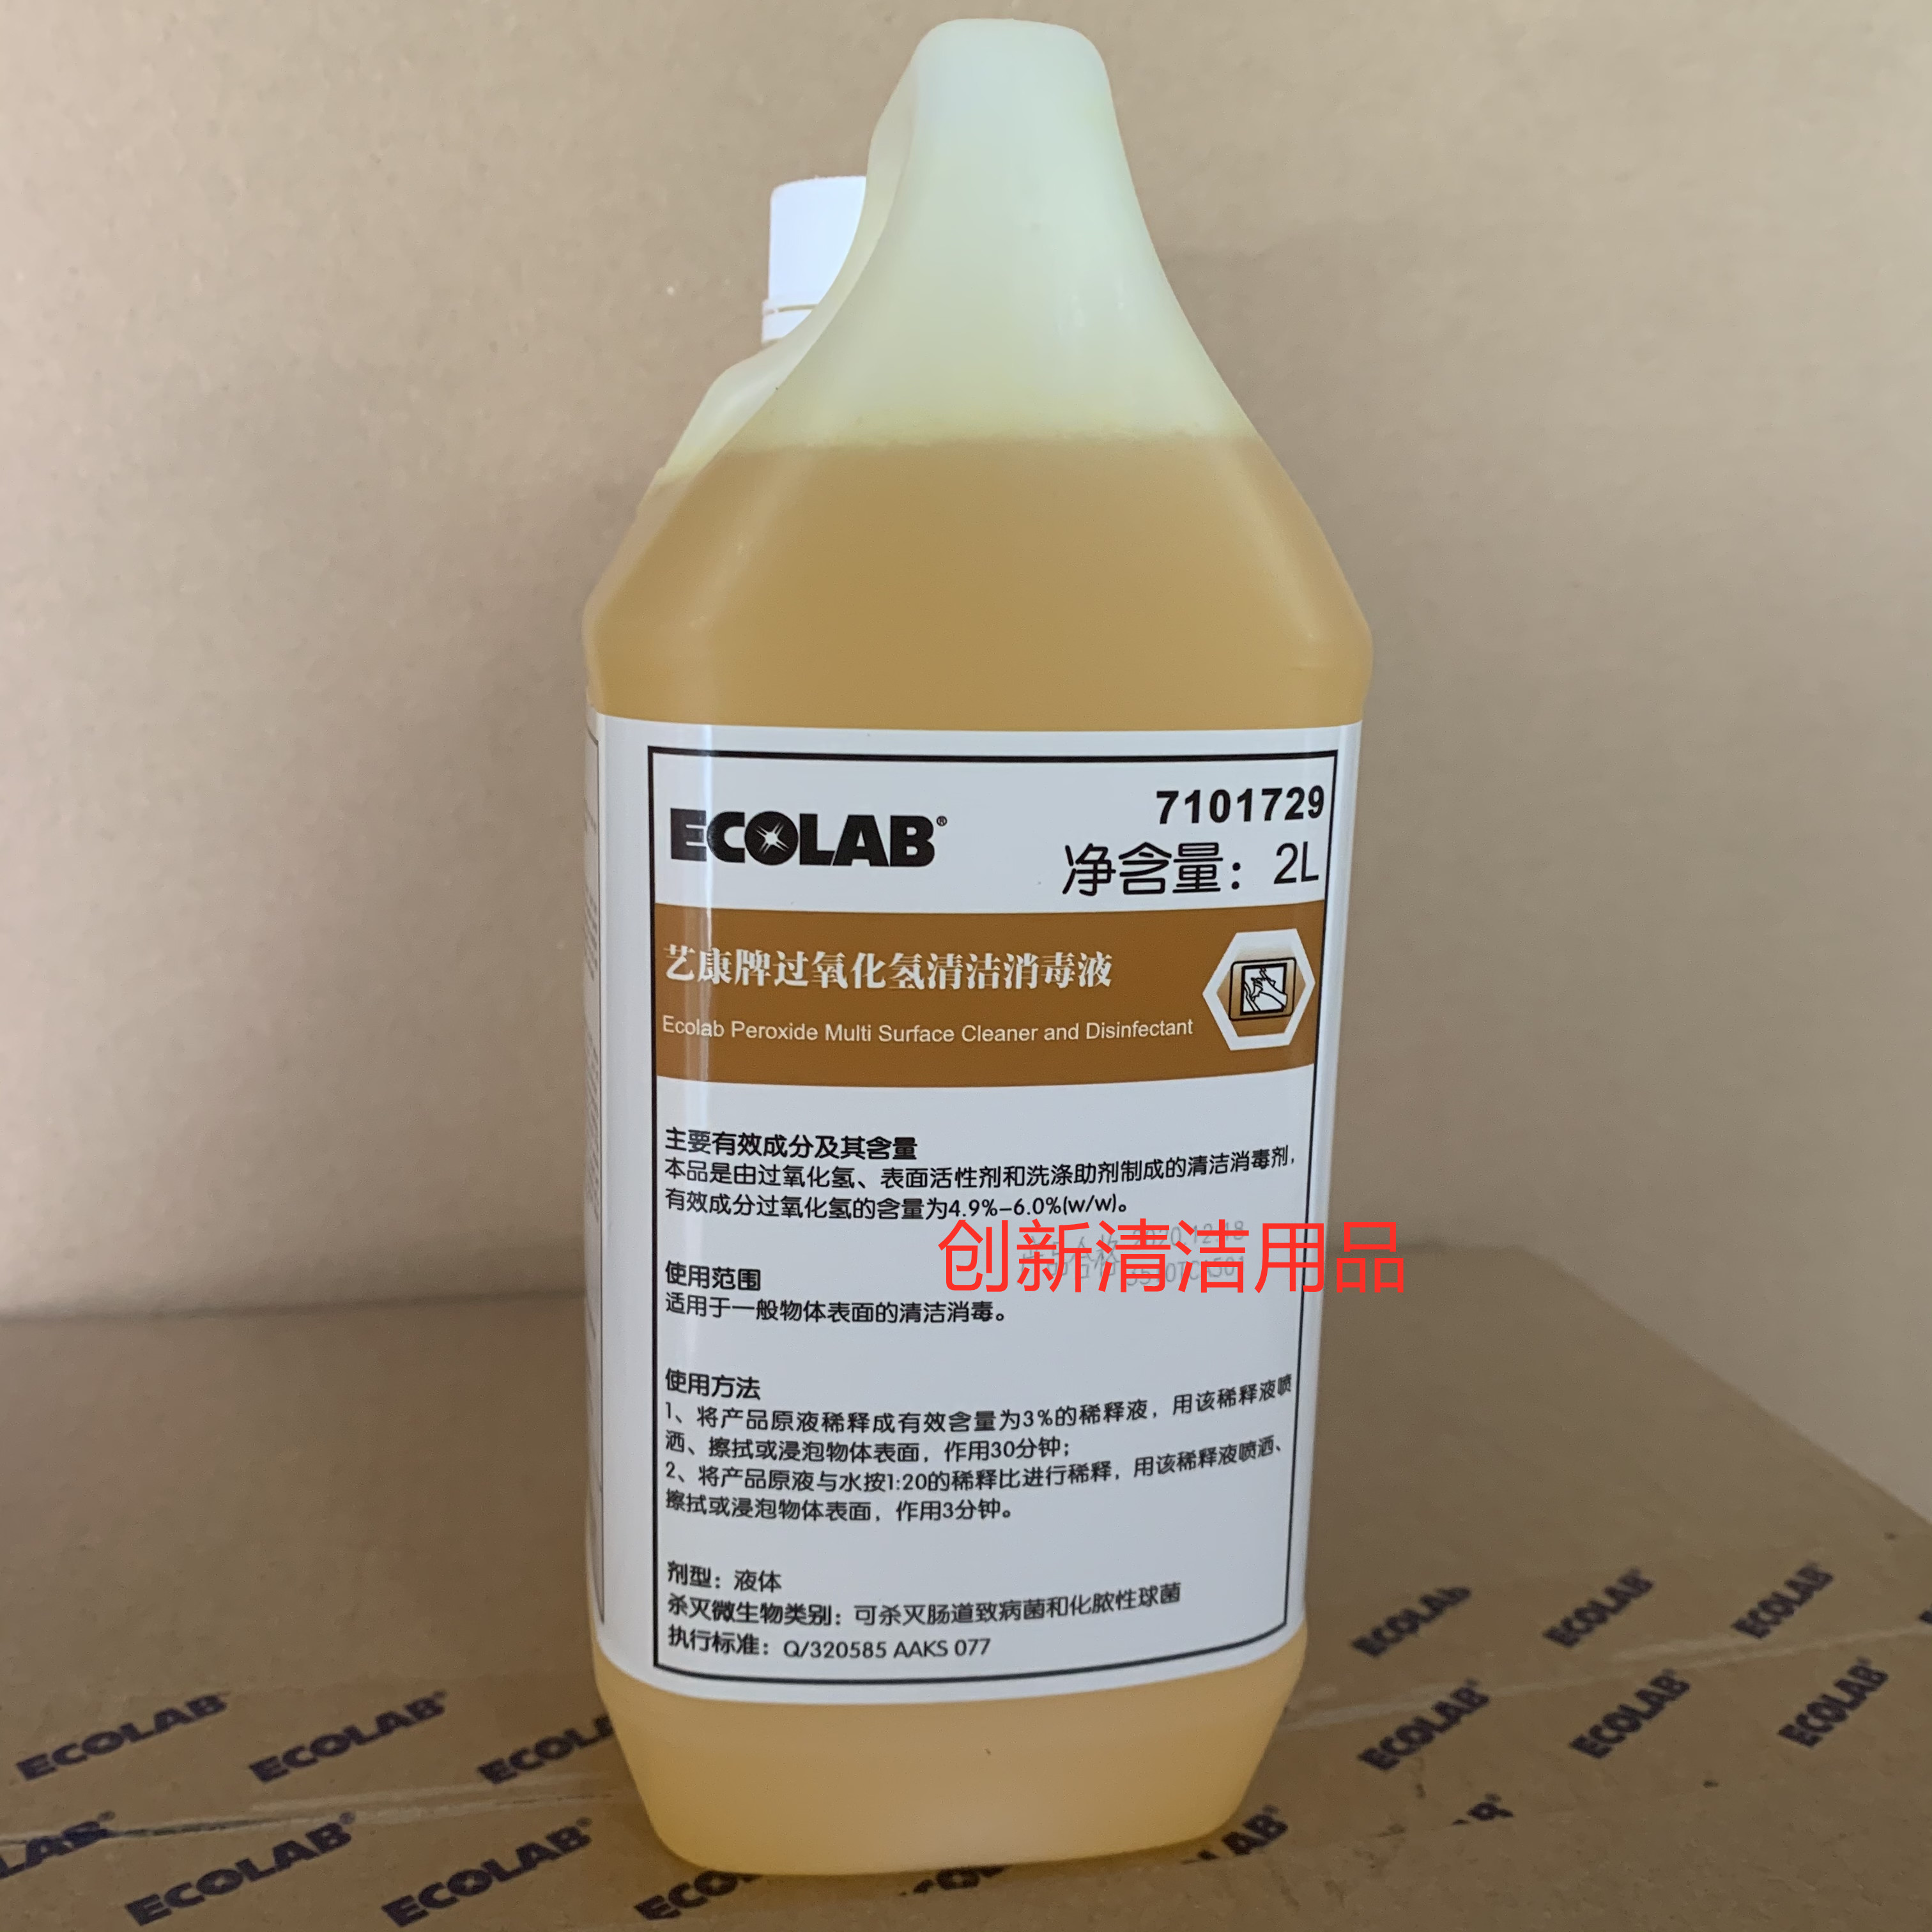cleaner: (570, 7, 1382, 1879)
